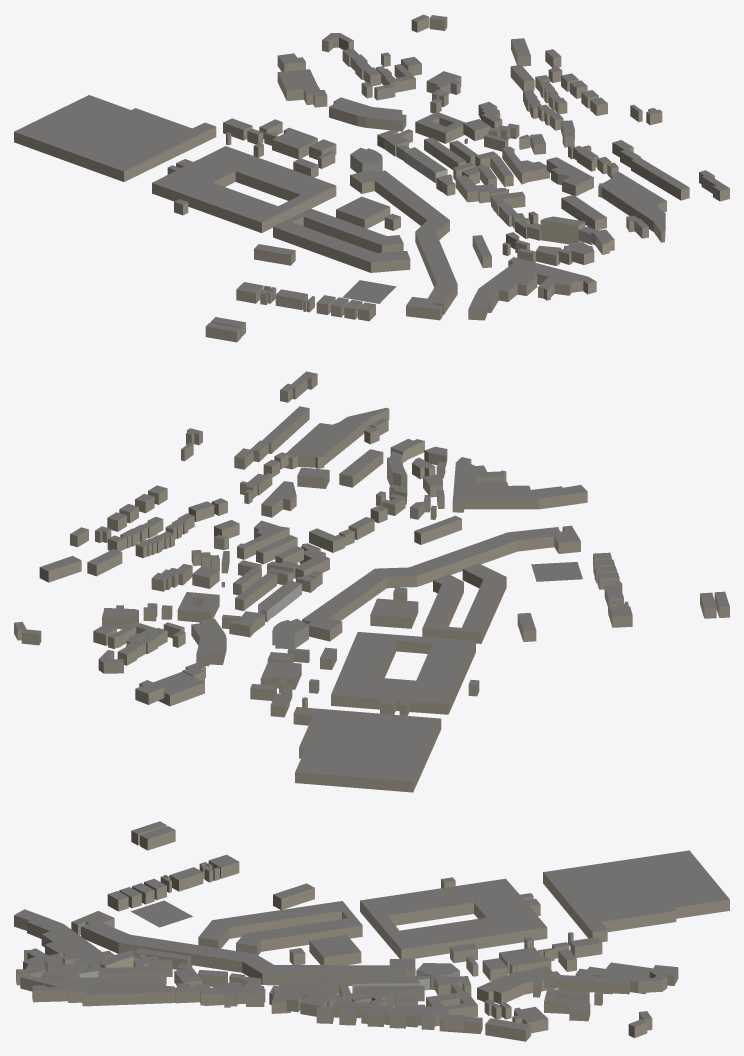
Rendered from buildings.glb.
3 renders of one model, top to bottom at view 1: azimuth 30°, elevation 25°; view 2: azimuth 150°, elevation 25°; view 3: azimuth 270°, elevation 25°, orthographic. The views are drawn at different scales.
Visible parts, largest first — view 1: T_W1_S1_buildings; view 2: T_W1_S1_buildings; view 3: T_W1_S1_buildings.
Boxes of the visible parts, x1,y1,x2,y2 form: T_W1_S1_buildings: (14,14,729,342); T_W1_S1_buildings: (14,371,729,792); T_W1_S1_buildings: (14,821,729,1041).
Bounding box in the file's own units: 483 × 80.79 × 572.
